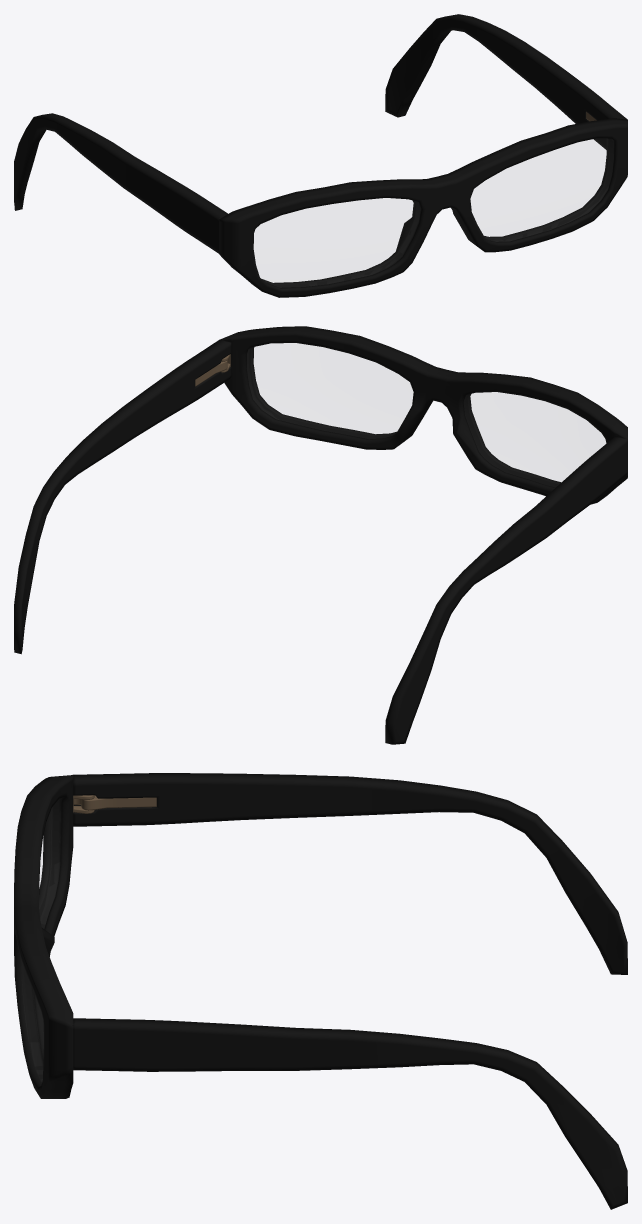
Rendered from glasses-vv-1.dae.
The picture shows the model from 3 angles, top to bottom: view 1: azimuth 30°, elevation 25°; view 2: azimuth 150°, elevation 25°; view 3: azimuth 270°, elevation 25°; orthographic projection. The views are drawn at different scales.
Visible parts, largest first — view 1: GLASSES_1; view 2: GLASSES_1; view 3: GLASSES_1.
Part boxes in pixels (x1,y1,x2,y2): GLASSES_1: (14,14,627,297); GLASSES_1: (14,326,627,744); GLASSES_1: (14,773,627,1209).
Bounding box in the file's own units: 0.1487 × 0.0561 × 0.1482.
